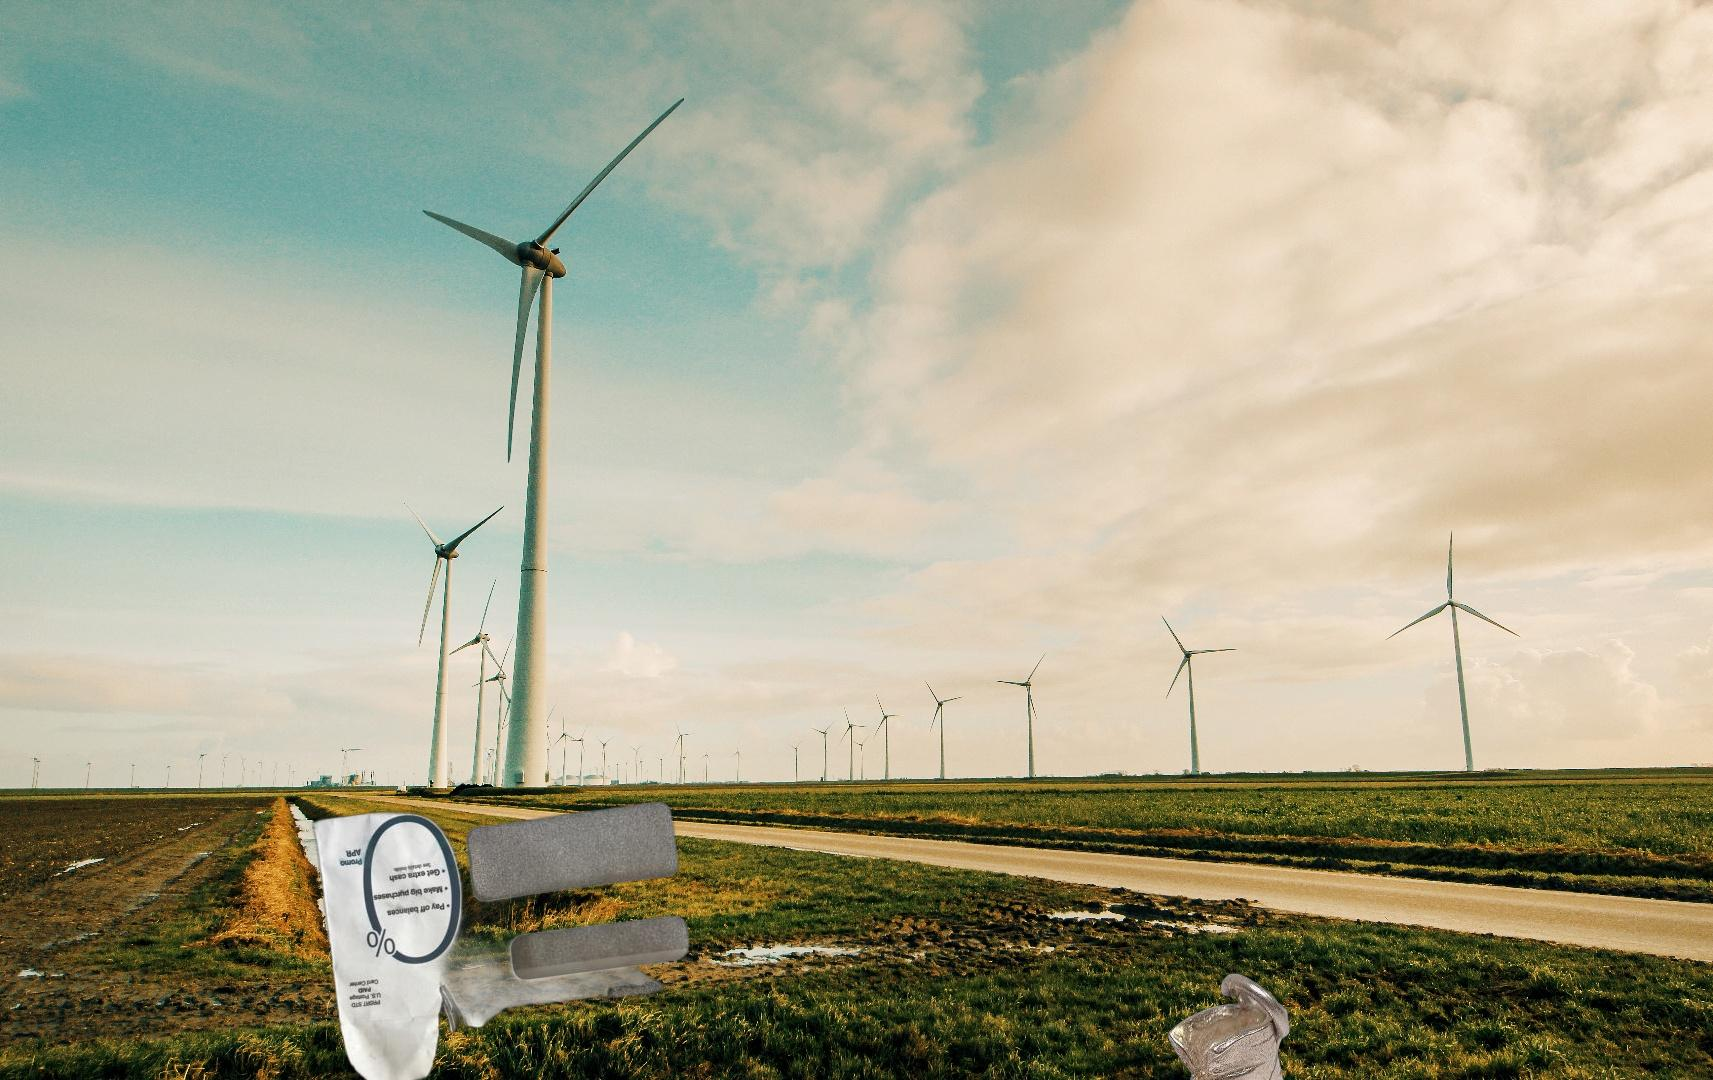paper: (309, 793, 720, 1080)
shoes: (1108, 971, 1293, 1080)
